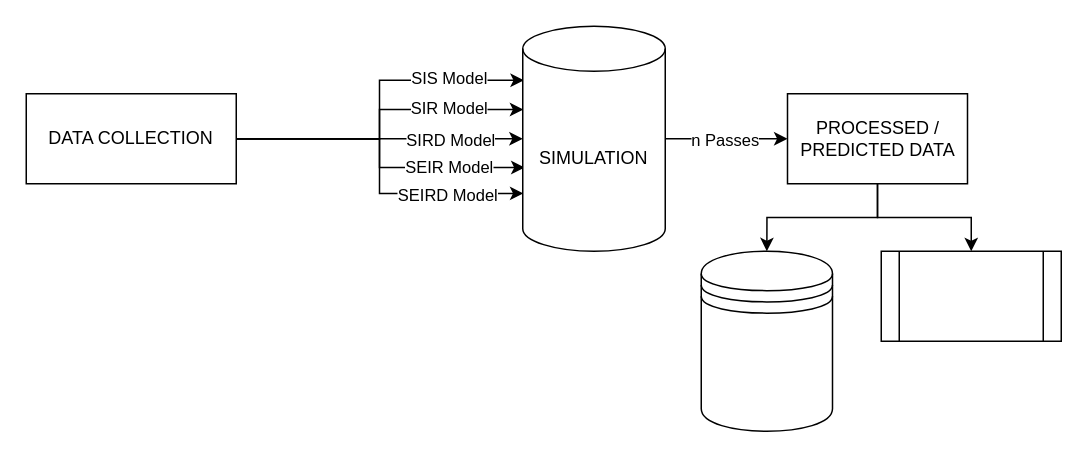
The diagram is 1088 pixels wide and 458 high, and some of its shapes have lost their labels. The shapes that lost their labels are listed below. From the top down, each one's centre as x and y in pixels, then its label:
At pixel 970 295: "POLICIES FORMULATION".
At pixel 766 340: "DATA STORAGE FOR FUTURE STUDIES".
